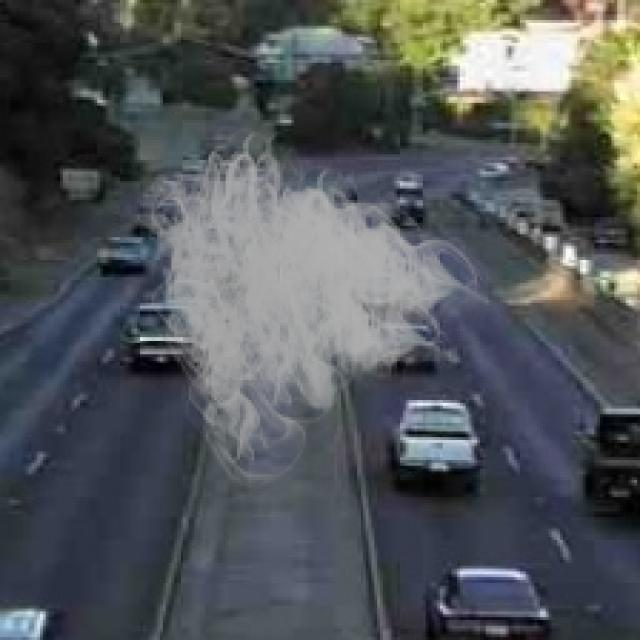Smoke: (126, 117, 488, 494)
